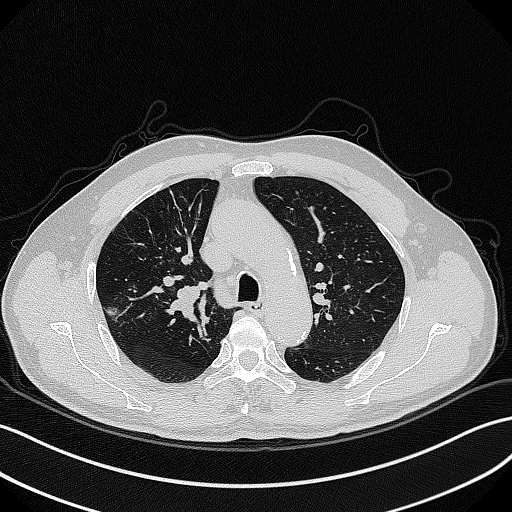nodule: (104, 307, 119, 317)
